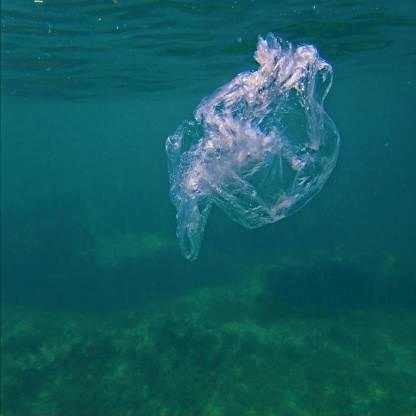pbag: (164, 32, 342, 260)
